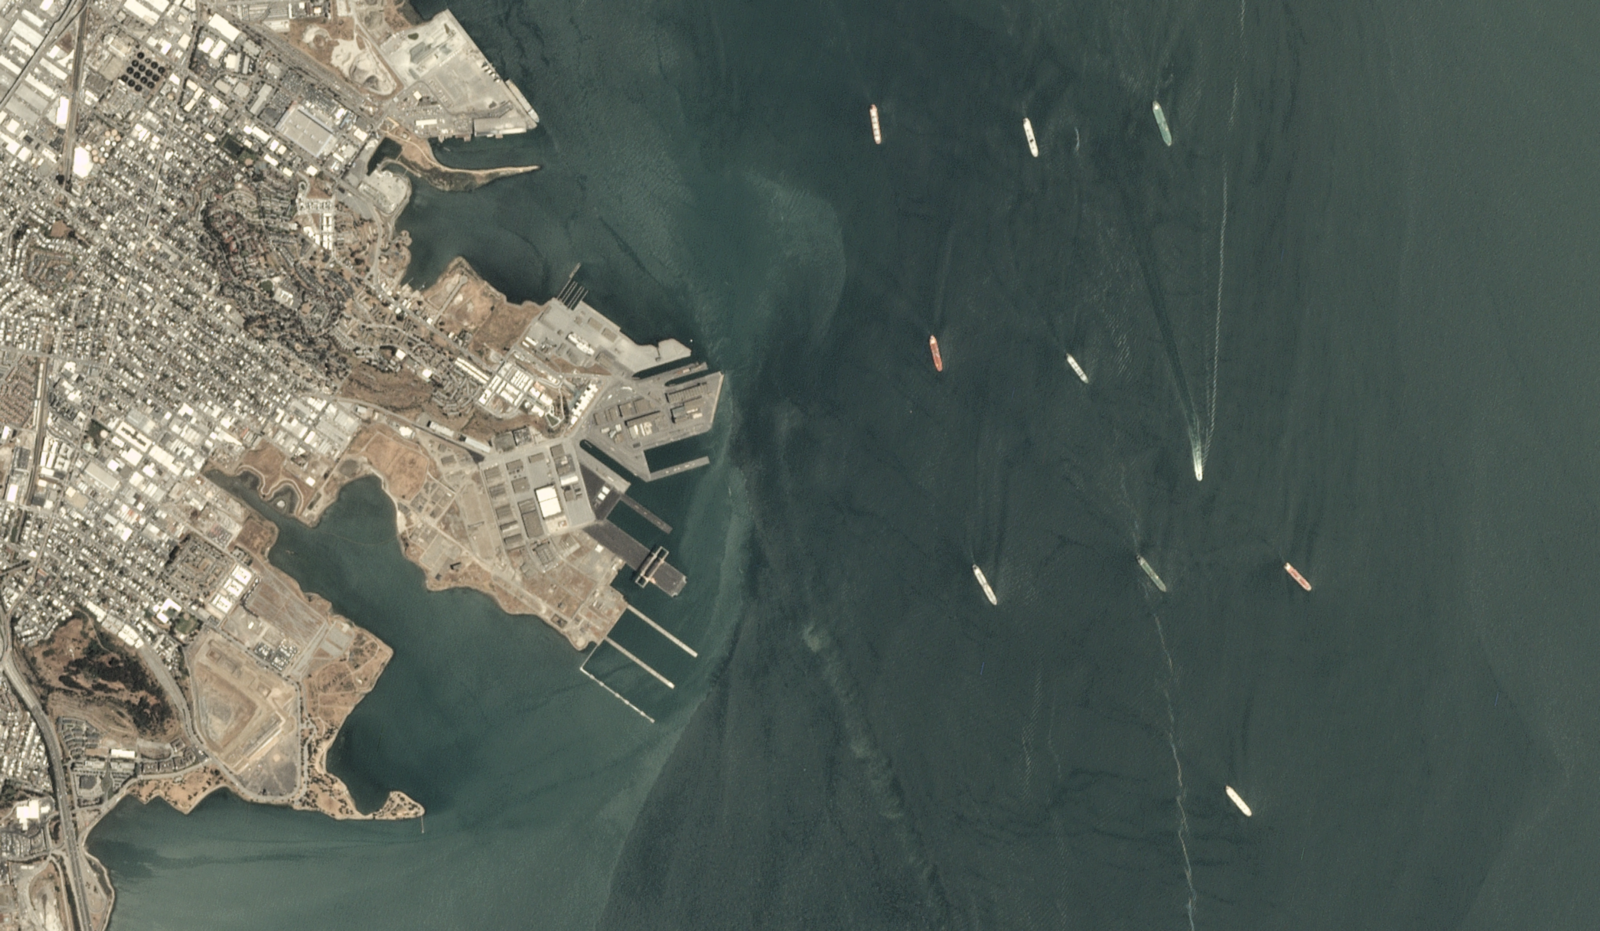ship: (1129, 553, 1180, 602), (1145, 100, 1183, 153), (1218, 785, 1264, 823), (966, 563, 1005, 608), (860, 100, 893, 149), (1061, 348, 1100, 389), (1281, 557, 1316, 597), (922, 329, 950, 380), (1018, 115, 1046, 164), (1190, 457, 1206, 482)
